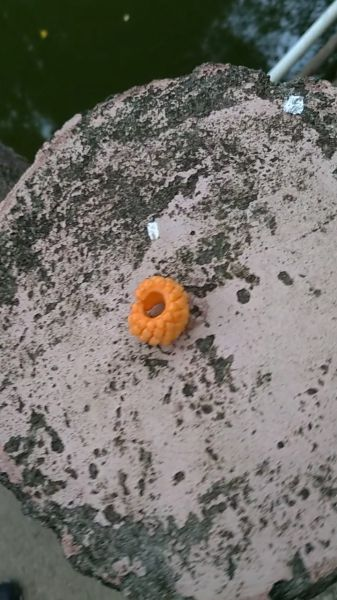eggs: (124, 269, 193, 345)
